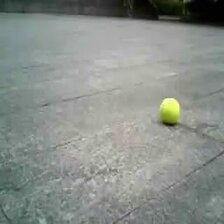tennis: (160, 99, 179, 122)
